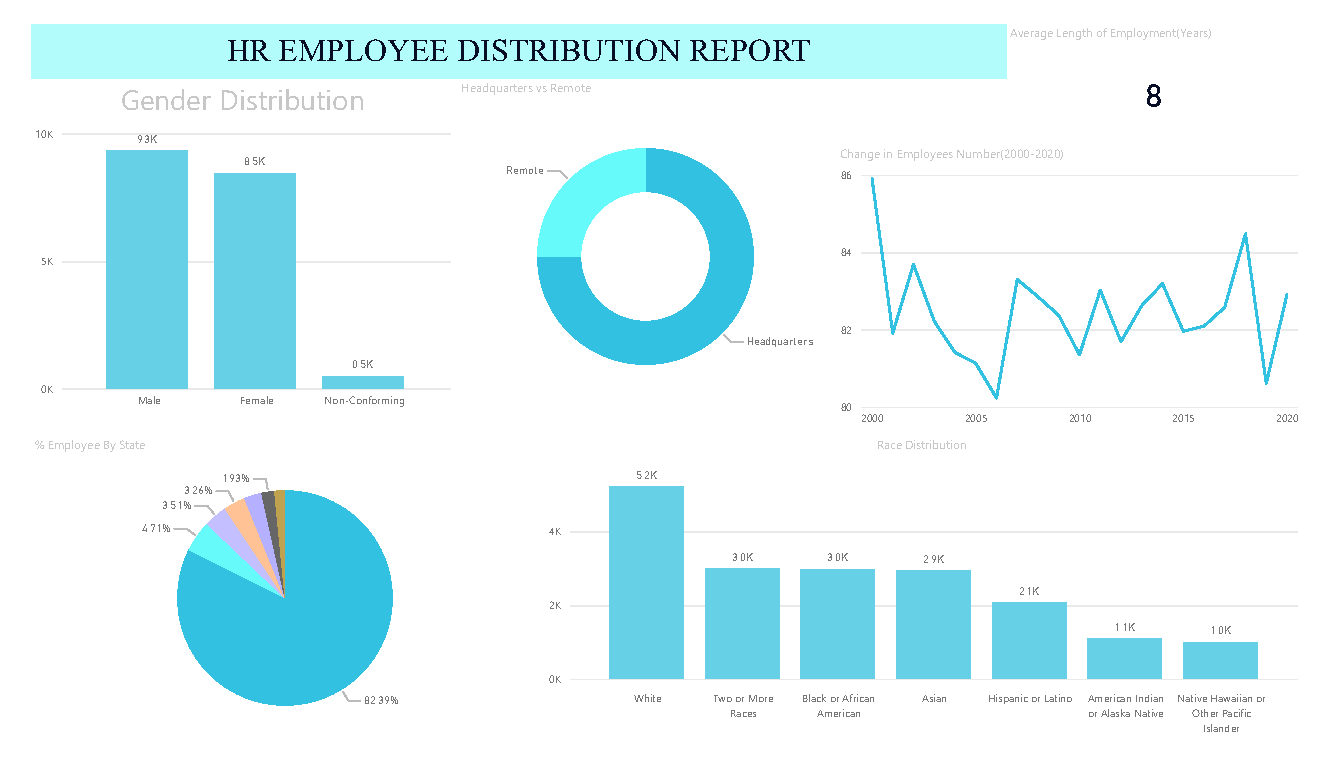

The page's visual inventory and layout, read from the dashboard file:
{"tool":"powerbi","page":{"name":"Page 1","canvas":[1280,720],"ordinal":0},"visuals":[{"type":"textbox","box":[6.8,0,976.5,55.4],"z":0},{"type":"card","title":"Average Length of Employment(Years)","fields":{"Values":["Sum(avg_length_employment.avg_length_employment)"]},"box":[981.4,0,297.6,120.6],"z":1000},{"type":"columnChart","title":"Gender Distribution","fields":{"Y":["Sum(gender.count)"],"Category":["gender.gender"]},"box":[5.8,56.4,426,337.5],"z":2000},{"type":"donutChart","title":"Headquarters vs Remote","fields":{"Y":["Sum(location.count)"],"Category":["location.location"]},"box":[431.9,55.4,379.3,338.5],"z":3000},{"type":"lineChart","title":"Change in Employees Number(2000-2020)","fields":{"Y":["Sum(employee_change.net_change_percent)"],"Category":["employee_change.year"]},"box":[811.2,120.6,468.8,291.8],"z":4000},{"type":"pieChart","title":"% Employee By State","fields":{"Y":["Sum(state.count)"],"Category":["state.location_state"]},"box":[5.8,412.4,510.6,307.4],"z":5000},{"type":"columnChart","title":"Race Distribution","fields":{"Y":["Sum(race.count)"],"Category":["race.race"]},"box":[517.4,412.4,761.6,306.4],"z":6000}]}

Visuals, with their boxes in screenshot pixels (x1, y1, x2, y2), scaled from the page's 1280x720 canvas onto the 1328x768 screenshot:
textbox: BBox(7, 0, 1020, 59)
"Average Length of Employment(Years)" card: BBox(1018, 0, 1327, 129)
"Gender Distribution" columnChart: BBox(6, 60, 448, 420)
"Headquarters vs Remote" donutChart: BBox(448, 59, 842, 420)
"Change in Employees Number(2000-2020)" lineChart: BBox(842, 129, 1327, 440)
"% Employee By State" pieChart: BBox(6, 440, 536, 767)
"Race Distribution" columnChart: BBox(537, 440, 1327, 767)
